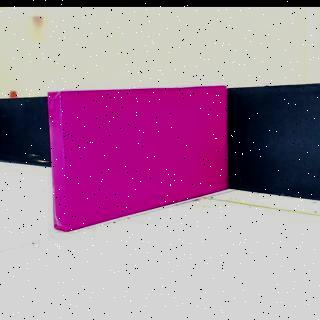xparking: (49, 93, 228, 190)
